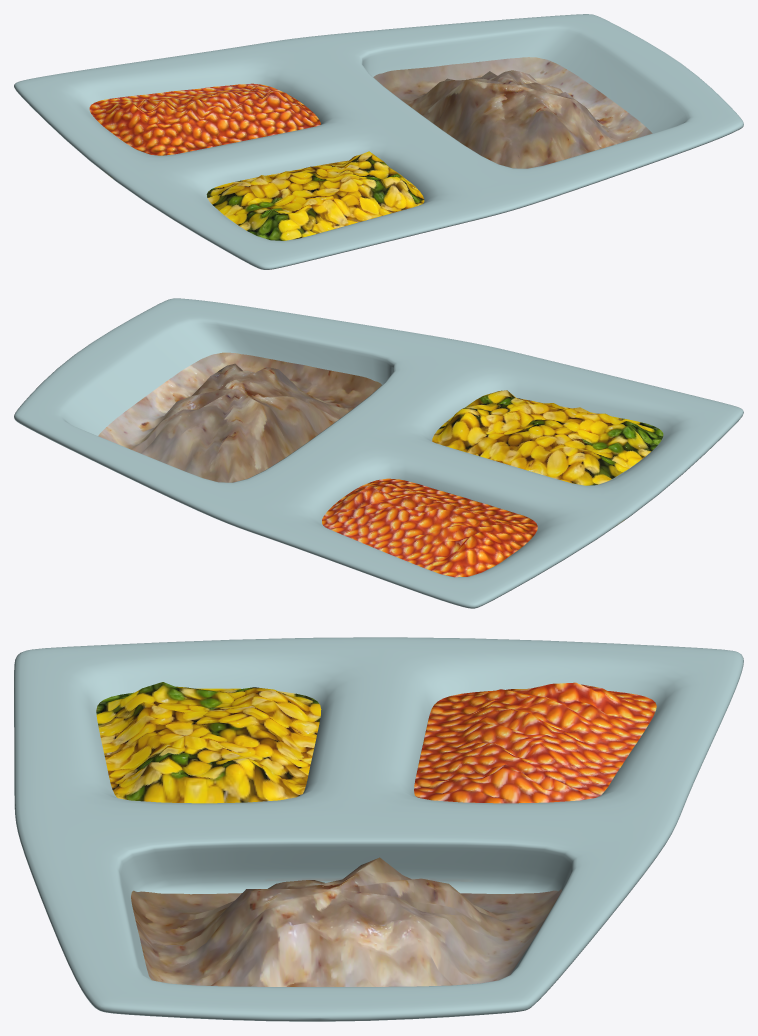
The model's file is hospitals-talerken_VERS03.fbx.
3 views of the same model, one above another, from view 1: azimuth 30°, elevation 25°; view 2: azimuth 150°, elevation 25°; view 3: azimuth 270°, elevation 25° (orthographic). The views are drawn at different scales.
Parts seen in each view (by area): view 1: plate-baked, plate-baked.001; view 2: plate-baked, plate-baked.001; view 3: plate-baked, plate-baked.001.
Boxes of the visible parts, x1,y1,x2,y2 form: plate-baked: (14, 14, 743, 269); plate-baked.001: (89, 57, 652, 240); plate-baked: (14, 298, 743, 608); plate-baked.001: (98, 352, 663, 577); plate-baked: (14, 637, 743, 1021); plate-baked.001: (96, 682, 656, 986).
Size of the model in its own units: 21.95 by 2.35 by 17.82.
Materials: 1 (1 with a texture image).
